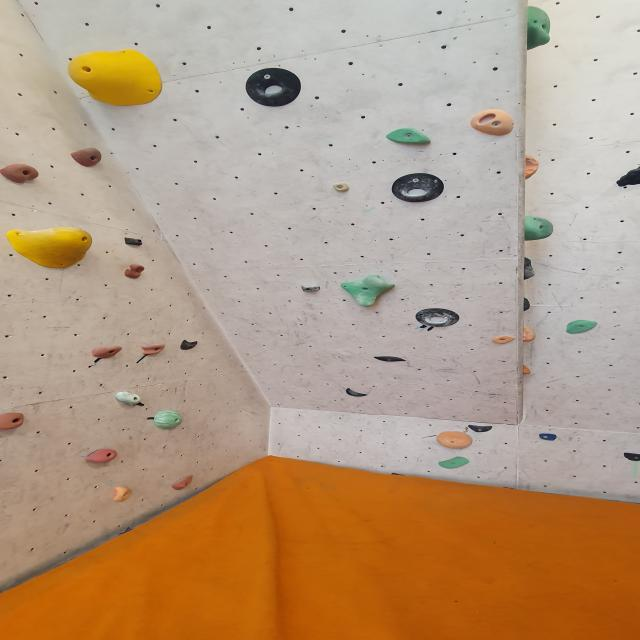Crimp: (564, 320, 598, 334), (170, 476, 195, 491), (330, 182, 352, 193), (491, 337, 515, 346), (536, 432, 558, 441)
Jug: (338, 276, 397, 308), (470, 108, 518, 136), (527, 4, 552, 50), (0, 163, 41, 185), (68, 147, 104, 170), (85, 450, 121, 465), (615, 167, 640, 188), (0, 412, 26, 431), (89, 346, 124, 360), (123, 265, 147, 281), (140, 344, 166, 357)
Pinch: (384, 130, 434, 150), (520, 155, 540, 180), (112, 391, 142, 406), (438, 457, 471, 470), (110, 487, 133, 503), (522, 328, 538, 344), (123, 237, 145, 247)
Pocket: (243, 68, 305, 108), (391, 174, 446, 202), (413, 309, 462, 326)
Sloper: (64, 48, 168, 116), (1, 225, 97, 272), (523, 216, 554, 240), (436, 431, 474, 450), (151, 412, 182, 430)
